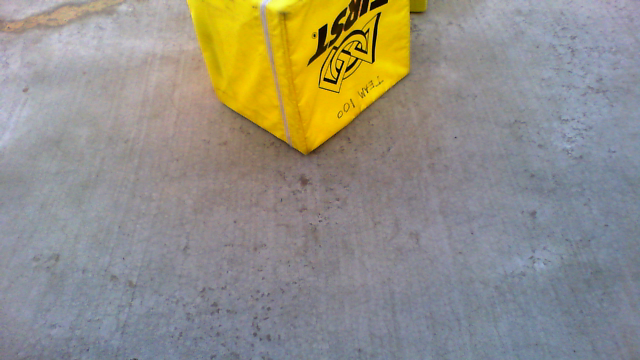cube: (186, 1, 410, 156)
